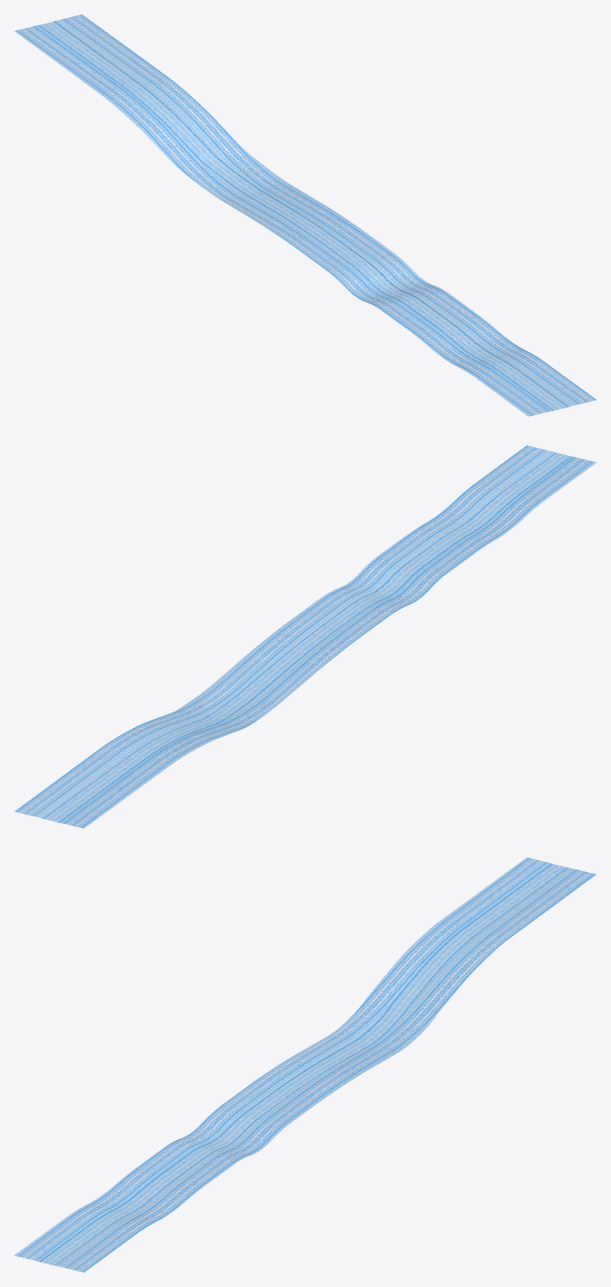
The model's file is snow track (1).fbx.
3 views of the same model, one above another, from view 1: azimuth 30°, elevation 25°; view 2: azimuth 150°, elevation 25°; view 3: azimuth 330°, elevation 25° (orthographic). The views are drawn at different scales.
Parts seen in each view (by area): view 1: way.003, way.004; view 2: way.003, way.004; view 3: way.003, way.004.
Part boxes in pixels (<box>): way.003: <box>14,14,596,416</box>; way.004: <box>38,21,568,410</box>; way.003: <box>14,445,596,828</box>; way.004: <box>43,452,571,822</box>; way.003: <box>14,857,596,1272</box>; way.004: <box>39,863,567,1265</box>.
Size of the model in its own units: 1267 by 408 by 14688.
1 material, 1 textured.
